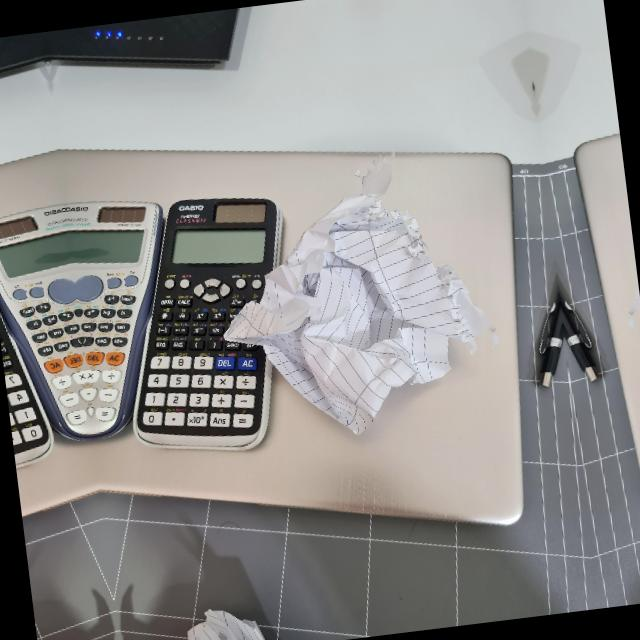paper: (249, 171, 498, 452), (618, 152, 640, 407)
